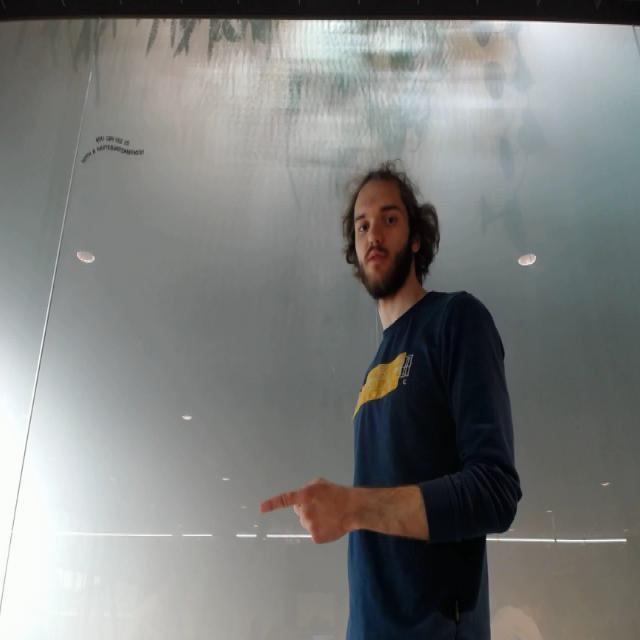left: (257, 461, 364, 554)
